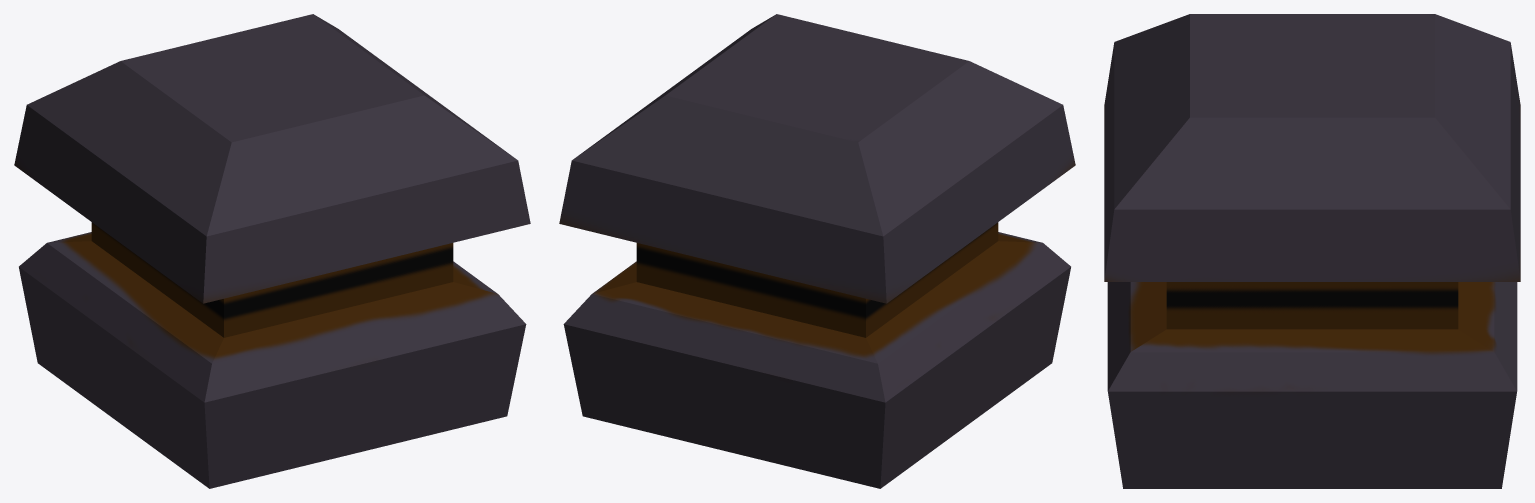
The model's file is ArrowShooter.fbx.
3 views of the same model, side by side, from view 1: azimuth 30°, elevation 25°; view 2: azimuth 150°, elevation 25°; view 3: azimuth 270°, elevation 25° (orthographic). The views are drawn at different scales.
Parts seen in each view (by area): view 1: Cube; view 2: Cube; view 3: Cube.
Boxes of the visible parts, x1,y1,x2,y2 form: Cube: (14,14,530,488); Cube: (559,14,1075,488); Cube: (1104,14,1520,488).
Bounding box in the file's own units: 147 × 134 × 147.
